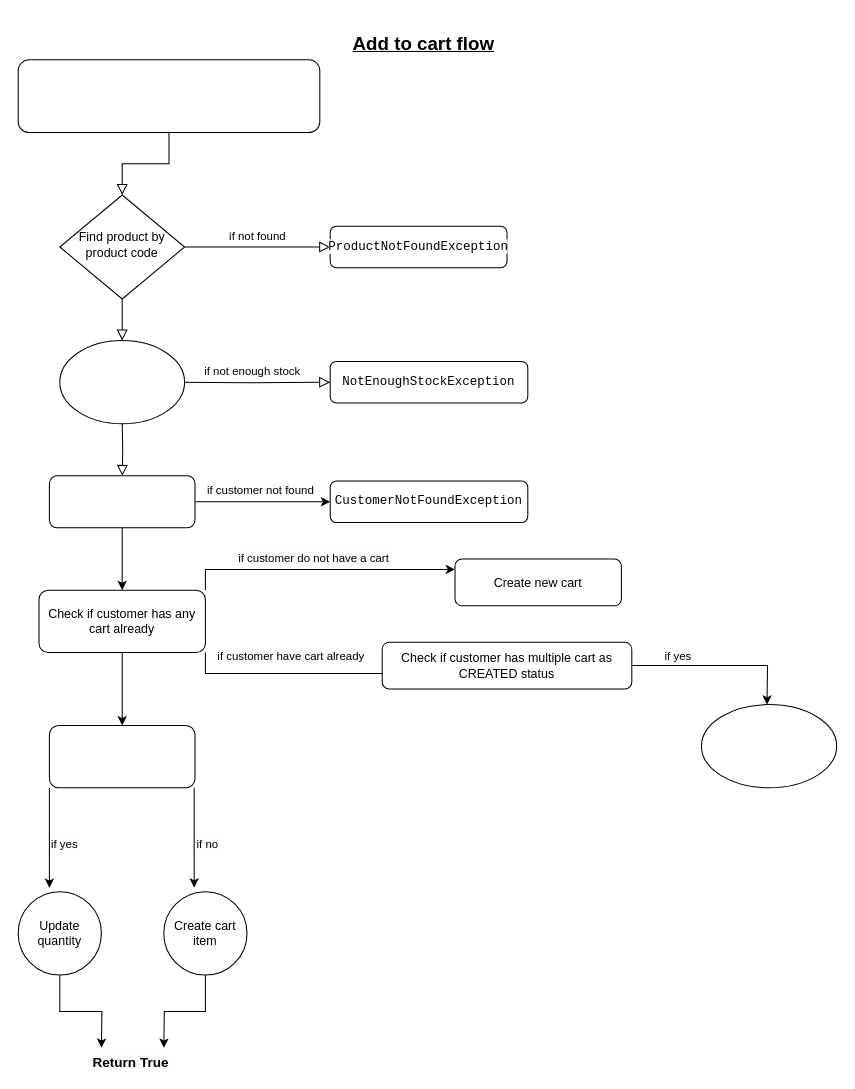
This 855x1089 diagram has some shape labels left out. The shapes that lost their labels are listed below. From the top down, each one's centre as x and y in pixels, then its label:
(168,96): addToCart( productCode, quantity )
(122,382): Check if there is enough stock
(121,501): Find currently logged in customer
(121,756): Check if product has already in the cart
(768,746): RuntimeException (check values on DB)
